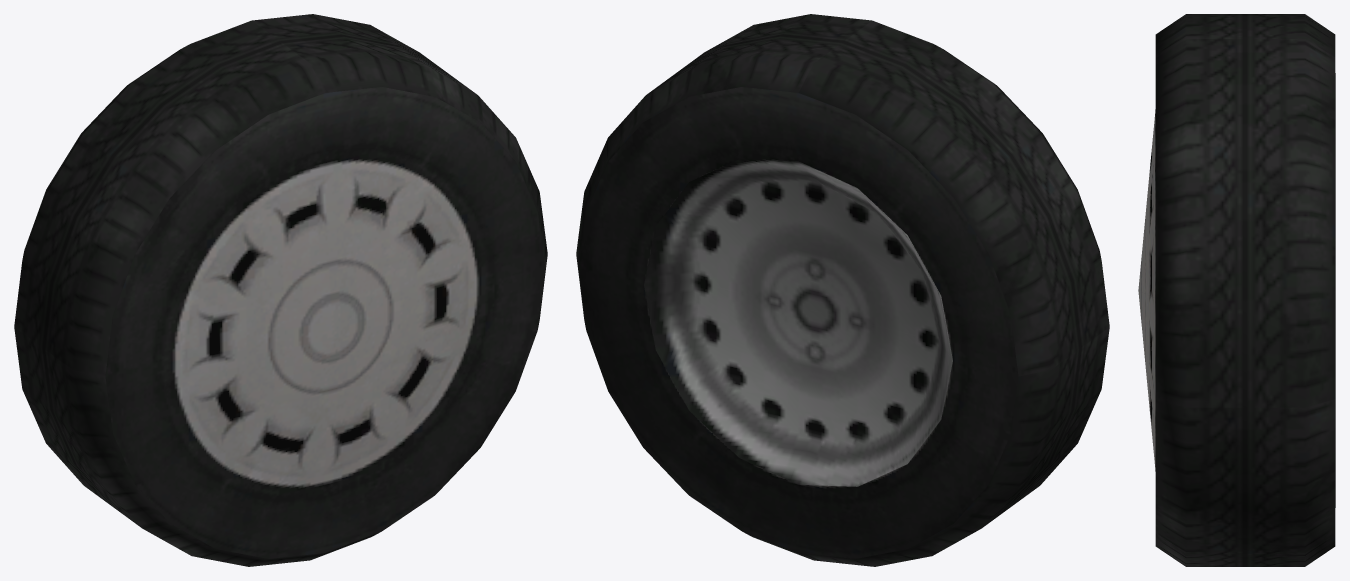
File: V_A_2DrCoupe_Wheels_5_SkeletalMesh3_SkeletalMesh_16.psk.glb
The picture shows the model from 3 angles, left to right: view 1: azimuth 30°, elevation 25°; view 2: azimuth 150°, elevation 25°; view 3: azimuth 270°, elevation 25°; orthographic projection.
Size of the model in its own units: 68.99 by 68.99 by 24.51.
1 material, 1 textured.
